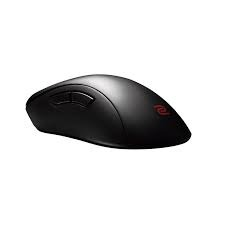mouse: (22, 73, 195, 147)
